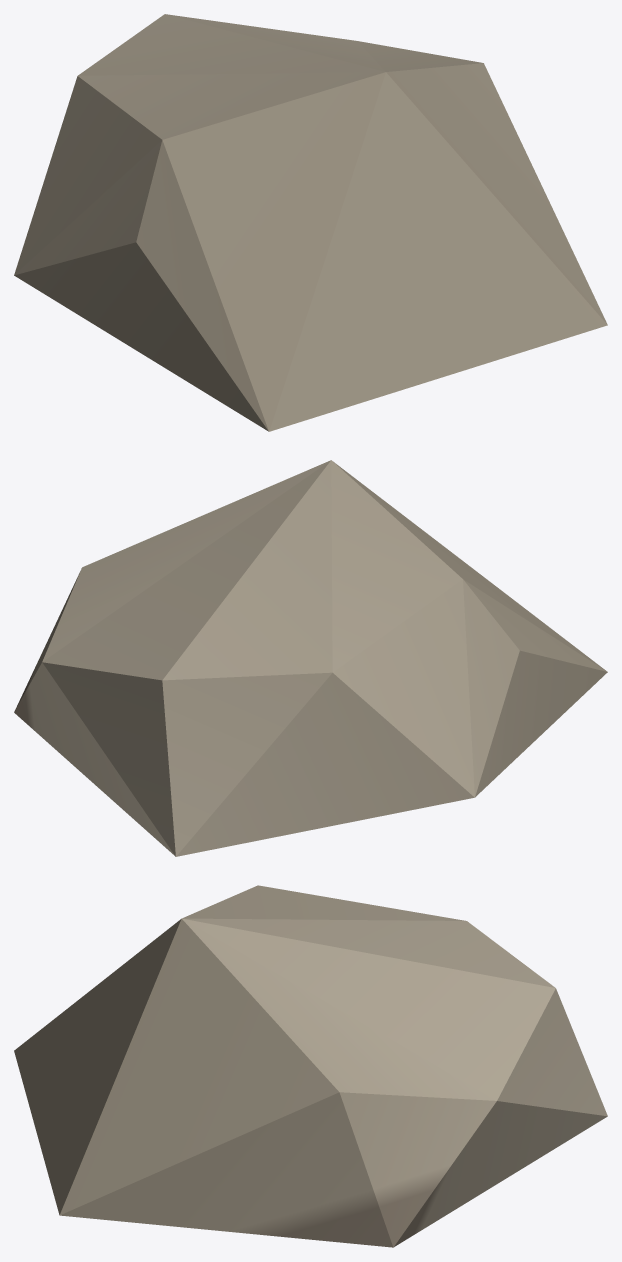
The model's file is Stone_B.fbx.
3 renders of one model, top to bottom at view 1: azimuth 30°, elevation 25°; view 2: azimuth 150°, elevation 25°; view 3: azimuth 270°, elevation 25°, orthographic. The views are drawn at different scales.
Parts seen in each view (by area): view 1: Stone_B; view 2: Stone_B; view 3: Stone_B.
Part boxes in pixels (x1,y1,x2,y2): Stone_B: (14, 14, 607, 431); Stone_B: (14, 460, 607, 856); Stone_B: (14, 885, 607, 1247).
Size of the model in its own units: 0.6325 by 0.3 by 0.7142.
Materials: 1 (1 with a texture image).
